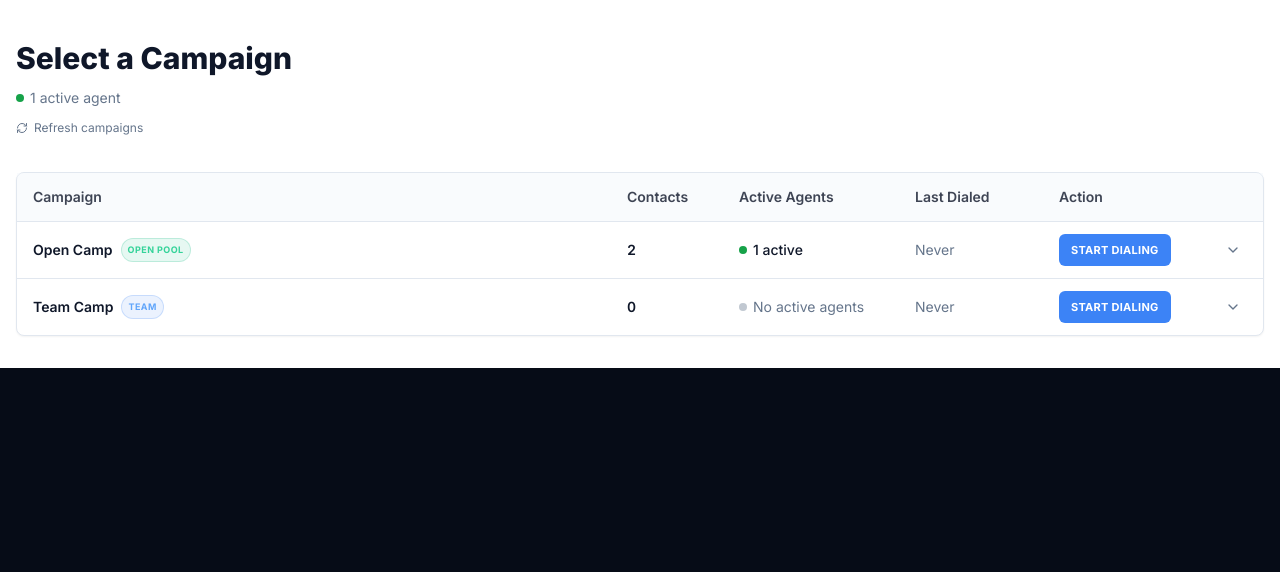
Test: expand/collapse › expands via a row click
Click the row "Open Camp Open Pool 2 1 active Never Start Dialing" at [640, 250], box left=17, top=221, right=1263, bottom=278
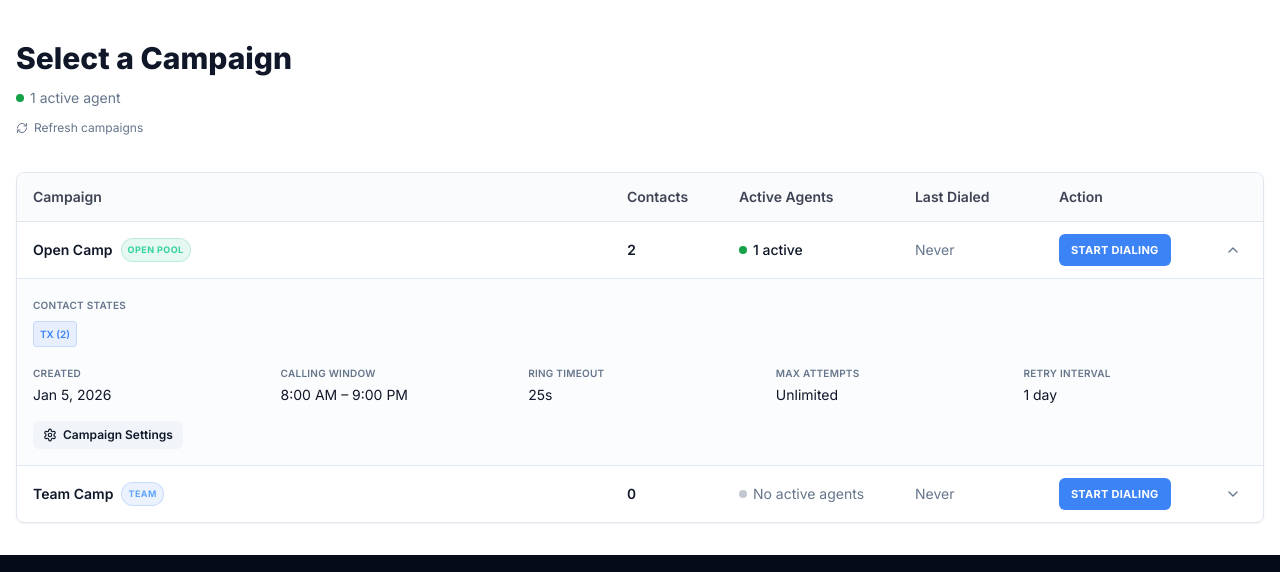
Result: the row with test id "campaign-details-c-open" is shown at left=17, top=278, right=1263, bottom=465
